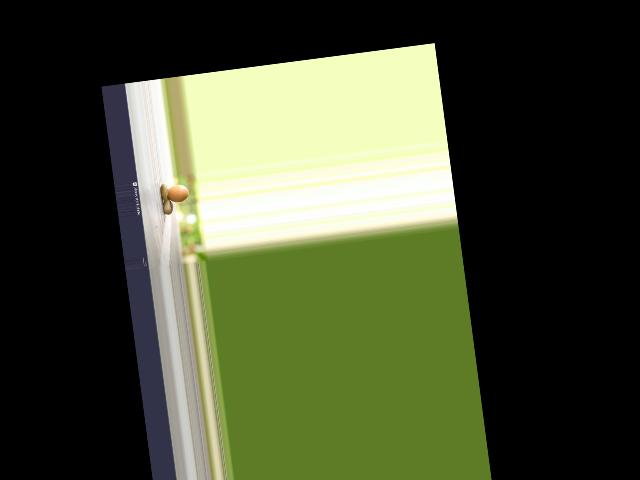egg: (166, 183, 189, 203)
